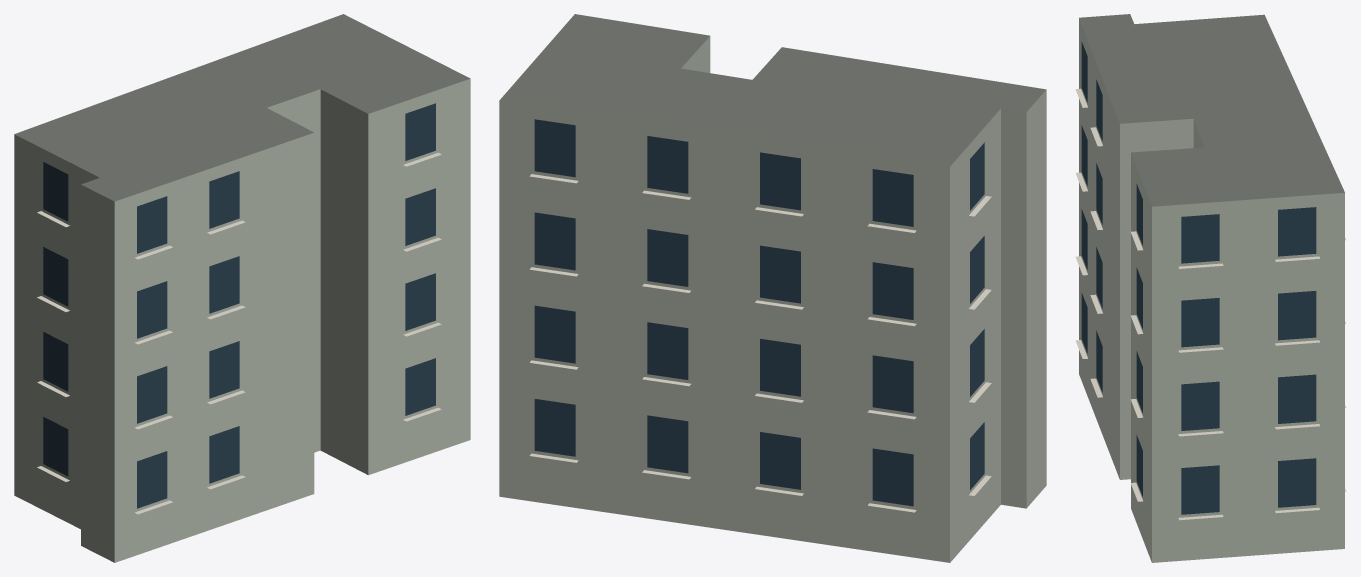
3 views of the same model, side by side, from view 1: azimuth 30°, elevation 25°; view 2: azimuth 150°, elevation 25°; view 3: azimuth 270°, elevation 25° (orthographic). The views are drawn at different scales.
Visible parts, largest first — view 1: Footprint 0, Inferred window bays, Window sills; view 2: Footprint 0, Inferred window bays, Window sills; view 3: Footprint 0, Inferred window bays, Window sills.
Part boxes in pixels (x1,y1,x2,y2): Footprint 0: [14, 14, 470, 562]; Inferred window bays: [43, 103, 435, 508]; Window sills: [37, 152, 441, 514]; Footprint 0: [499, 14, 1046, 562]; Inferred window bays: [534, 119, 984, 506]; Window sills: [529, 174, 991, 512]; Footprint 0: [1079, 14, 1344, 562]; Inferred window bays: [1081, 41, 1316, 514]; Window sills: [1075, 88, 1346, 520].
Bounding box in the file's own units: 14.68 × 12.57 × 8.67.
